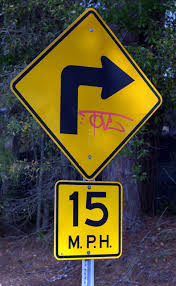right: (9, 7, 165, 182)
